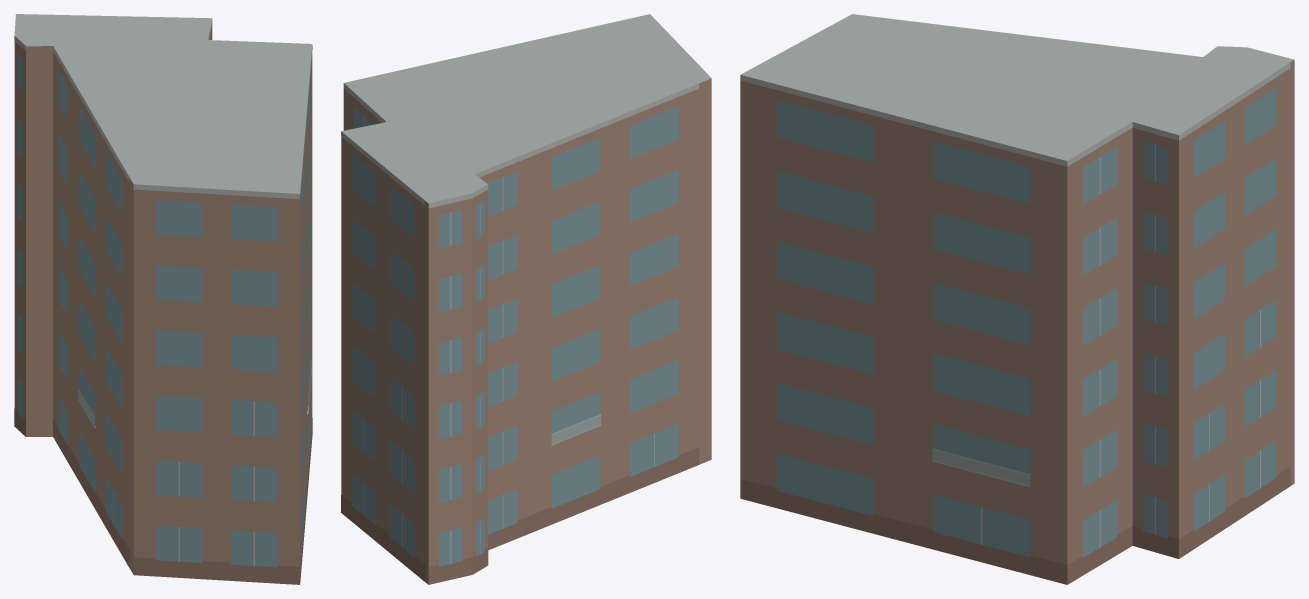
The model's file is survey-upis-32644808.glb.
3 views of the same model, side by side, from view 1: azimuth 30°, elevation 25°; view 2: azimuth 150°, elevation 25°; view 3: azimuth 270°, elevation 25° (orthographic). The views are drawn at different scales.
Parts seen in each view (by area): view 1: survey-upis-32644808.tmp; view 2: survey-upis-32644808.tmp; view 3: survey-upis-32644808.tmp.
Boxes of the visible parts, <box> form: survey-upis-32644808.tmp: <box>14,14,312,584</box>; survey-upis-32644808.tmp: <box>341,14,711,584</box>; survey-upis-32644808.tmp: <box>740,14,1294,584</box>.
Size of the model in its own units: 13.63 by 18.3 by 21.7.
